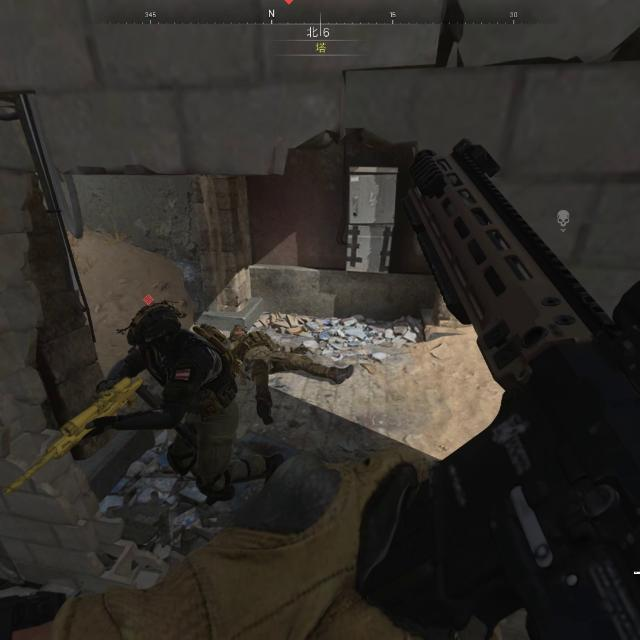MW2_body: (94, 294, 283, 505)
